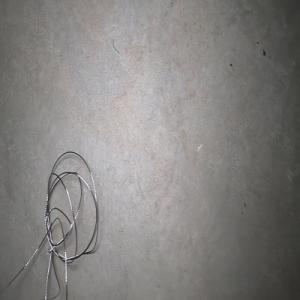Wire: (0, 151, 98, 300)
